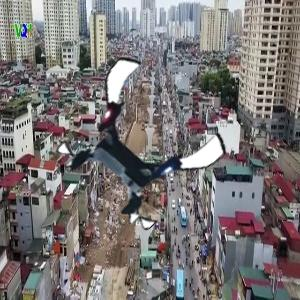drone: (64, 69, 212, 217)
